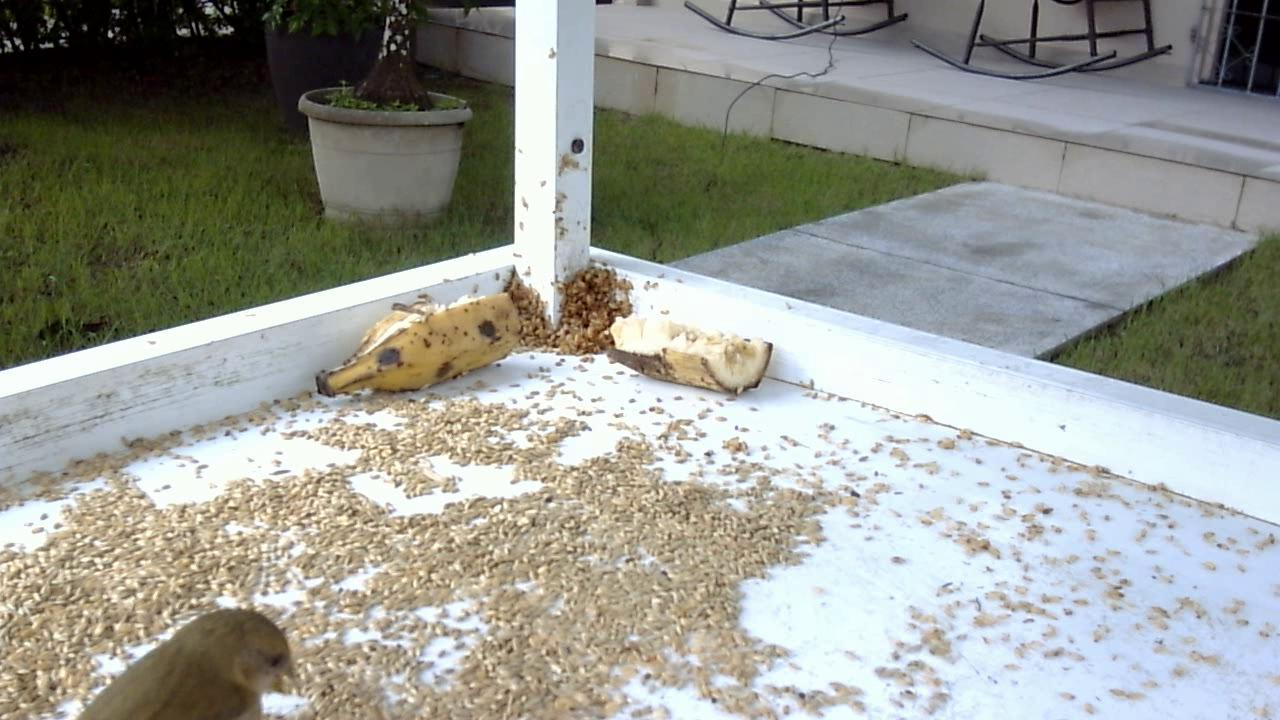canario_do_amazonas: (52, 600, 301, 720)
